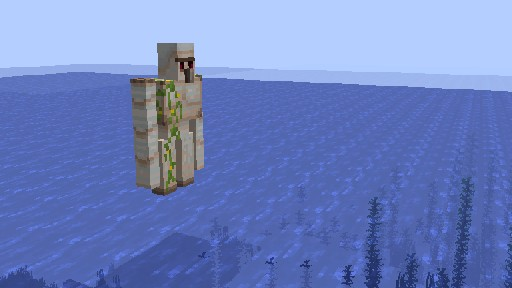iron_golem: (129, 41, 204, 196)
